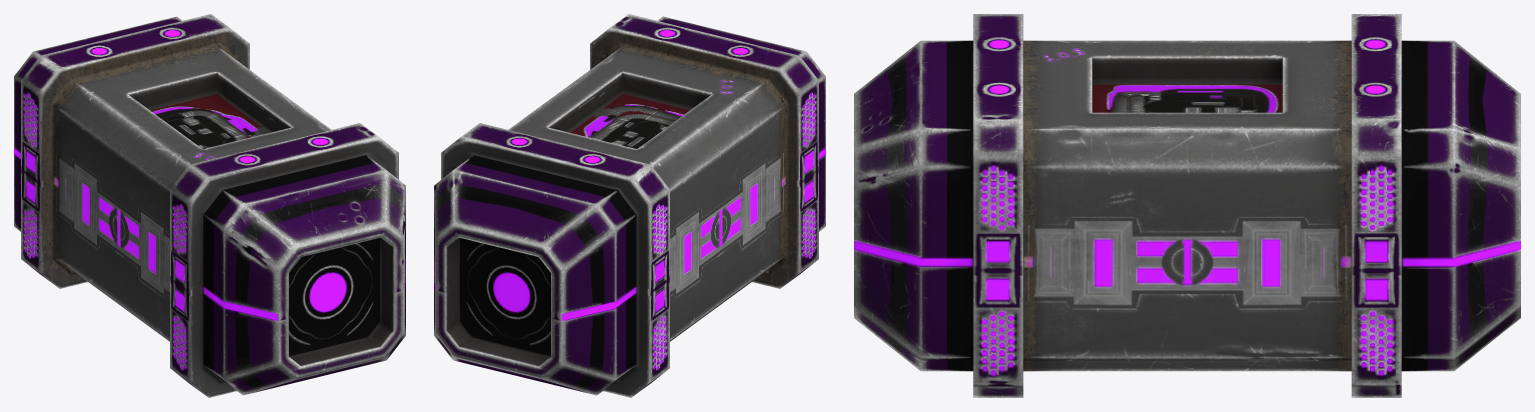
File: lootbox.glb
3 views of the same model, side by side, from view 1: azimuth 30°, elevation 25°; view 2: azimuth 150°, elevation 25°; view 3: azimuth 270°, elevation 25° (orthographic). The views are drawn at different scales.
Visible parts, largest first — view 1: Sci_Fi_Crate_LP_2; view 2: Sci_Fi_Crate_LP_2; view 3: Sci_Fi_Crate_LP_2.
Boxes of the visible parts, <box> form: Sci_Fi_Crate_LP_2: <box>14,14,405,397</box>; Sci_Fi_Crate_LP_2: <box>434,14,825,397</box>; Sci_Fi_Crate_LP_2: <box>854,14,1520,397</box>.
Bounding box in the file's own units: 460 × 460 × 1000.
1 material, 1 textured.
